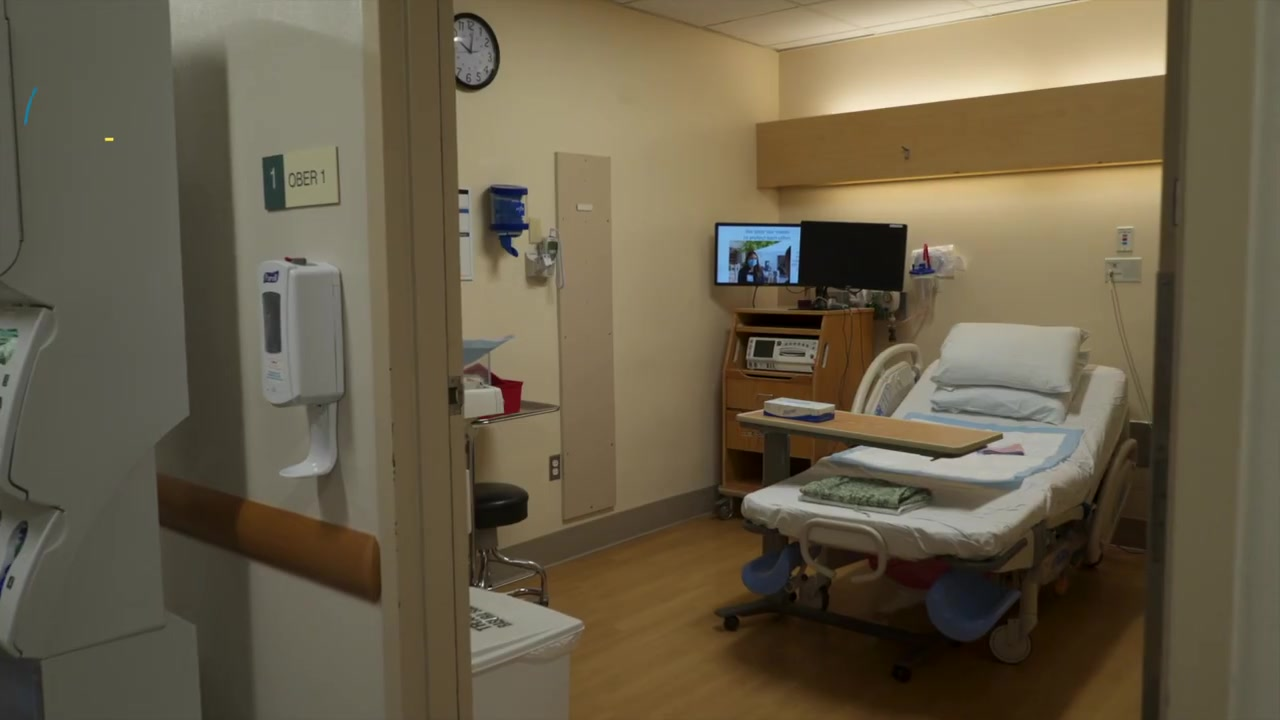bedrail: (1084, 436, 1139, 566), (849, 342, 926, 417)
bedside_monitor: (799, 220, 908, 292), (716, 221, 801, 286)
chair: (469, 483, 550, 609)
dispenser: (256, 260, 344, 480), (490, 180, 529, 257)
handle: (756, 392, 774, 397)
hospital_bed: (747, 322, 1140, 668)
overbed_table: (711, 399, 1003, 683)
telephone: (529, 229, 570, 287)
utility_cart: (461, 398, 578, 605)
waste_bin: (470, 588, 585, 720)
